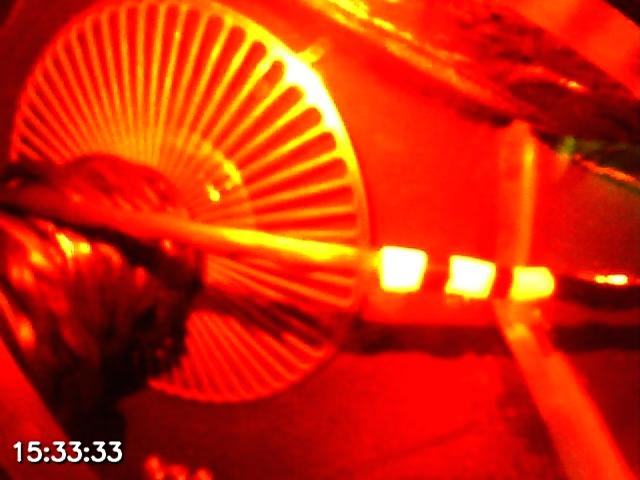white-dots: (376, 244, 556, 303)
